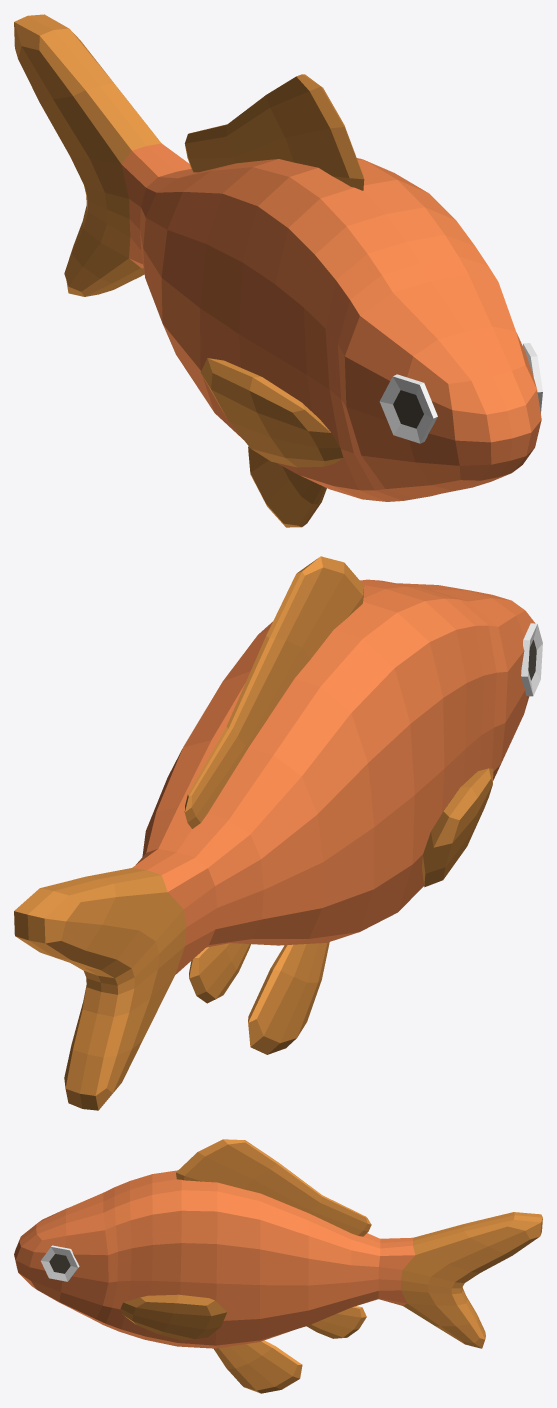
The model's file is Goldfish.fbx.
3 renders of one model, top to bottom at view 1: azimuth 30°, elevation 25°; view 2: azimuth 150°, elevation 25°; view 3: azimuth 270°, elevation 25°, orthographic. The views are drawn at different scales.
Visible parts, largest first — view 1: Goldfish; view 2: Goldfish; view 3: Goldfish.
Boxes of the visible parts, box(x1,y1,x2,y2) form: Goldfish: box(14, 14, 542, 527); Goldfish: box(14, 556, 542, 1110); Goldfish: box(14, 1139, 542, 1393).
Bounding box in the file's own units: 0.1004 × 0.3414 × 0.1812.
